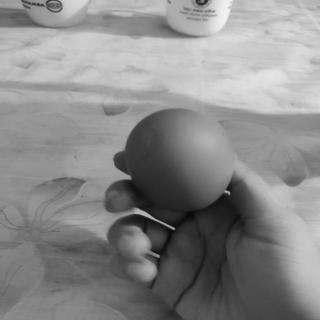Telur: (125, 108, 238, 210)
